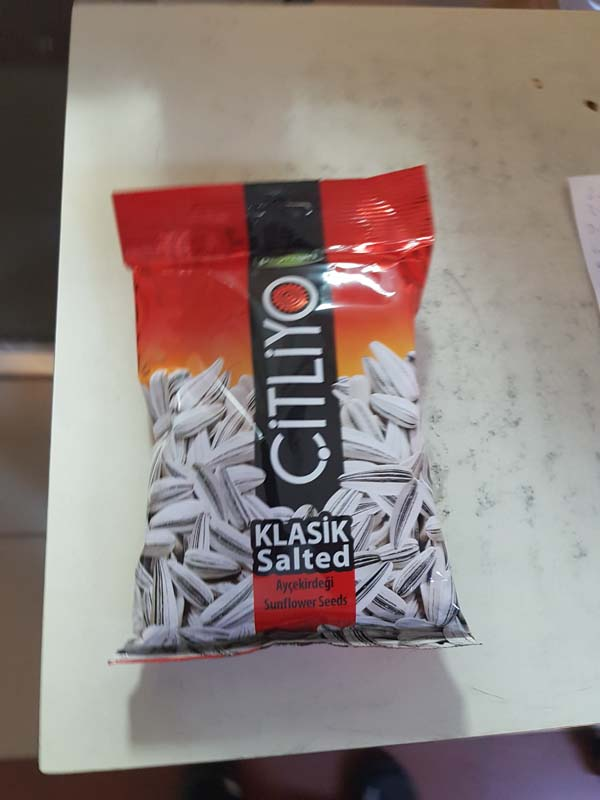citliyorklasik: (85, 163, 489, 665)
